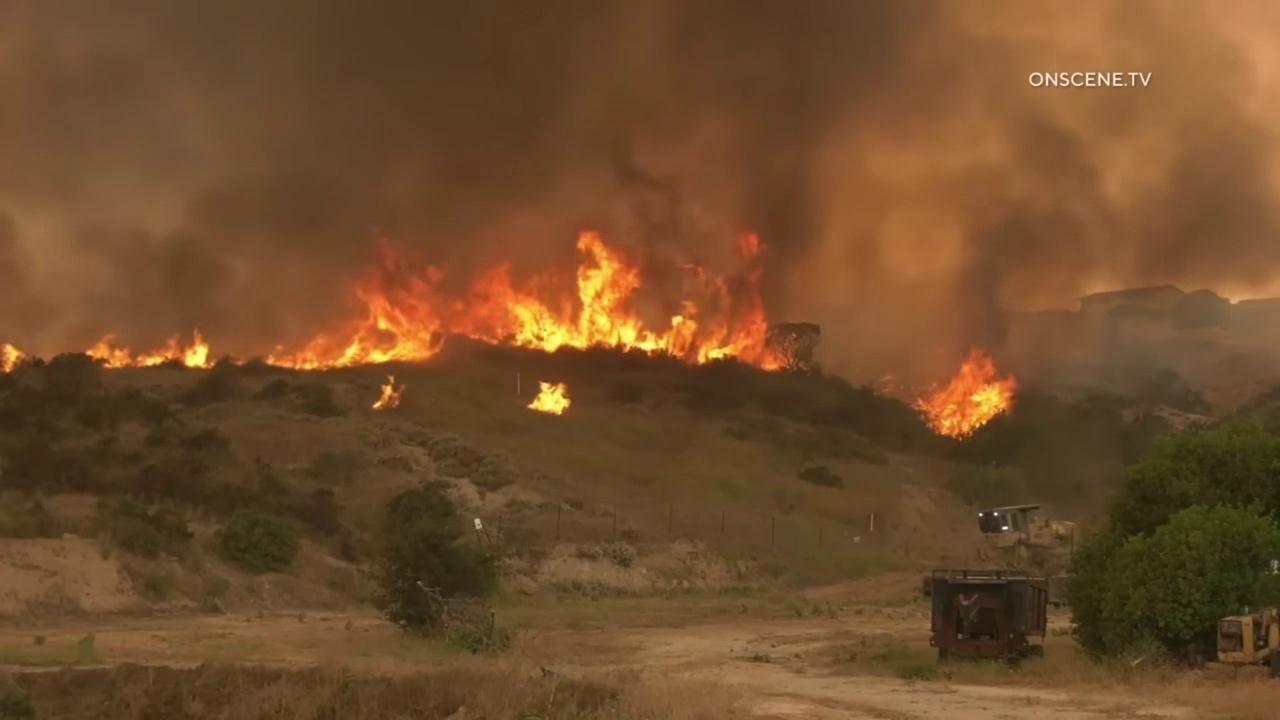fire: (264, 228, 797, 371), (905, 346, 1020, 443), (82, 326, 220, 369), (527, 377, 572, 416), (370, 374, 407, 410), (0, 342, 28, 375), (229, 358, 248, 367)
smoke: (0, 0, 1280, 402)
